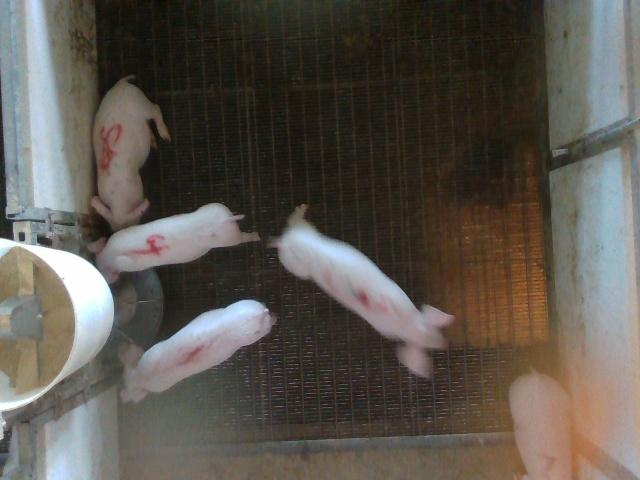pig-1: (119, 300, 275, 402)
pig-3: (271, 206, 454, 377)
pig-4: (90, 204, 260, 284)
pig-5: (91, 76, 171, 231)
